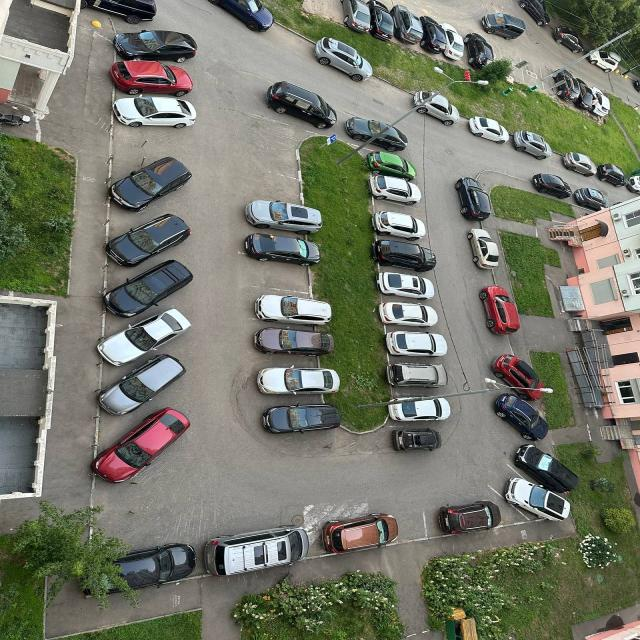car: (88, 409, 188, 483), (88, 542, 196, 601), (100, 260, 193, 321), (202, 528, 312, 577), (102, 350, 184, 415), (102, 308, 193, 365), (108, 155, 194, 210), (105, 213, 189, 266), (501, 477, 571, 523), (326, 515, 401, 557), (104, 63, 197, 96), (490, 350, 549, 402), (266, 85, 338, 126), (518, 447, 582, 493), (314, 35, 371, 82), (495, 396, 555, 438), (250, 327, 331, 357), (117, 97, 196, 127), (112, 31, 194, 59), (260, 294, 333, 325), (345, 118, 409, 153), (479, 282, 519, 337), (268, 403, 341, 433), (434, 502, 497, 536), (258, 368, 339, 394), (210, 0, 274, 32), (252, 201, 318, 232), (245, 238, 318, 263), (82, 2, 157, 25), (370, 175, 421, 208), (482, 14, 538, 42), (387, 364, 447, 389), (391, 331, 451, 356), (417, 95, 461, 129), (469, 229, 506, 269), (391, 399, 451, 423), (394, 7, 429, 47), (374, 213, 427, 238), (457, 178, 489, 219), (381, 303, 435, 327), (381, 245, 435, 268), (369, 152, 417, 177), (394, 429, 441, 453), (470, 114, 507, 144), (561, 82, 598, 110), (517, 0, 550, 31), (467, 33, 491, 73), (593, 162, 629, 188), (590, 48, 626, 74), (564, 154, 601, 179), (338, 0, 369, 29), (373, 3, 397, 40), (419, 18, 445, 52), (554, 70, 582, 101), (586, 88, 614, 119), (517, 132, 549, 159), (537, 173, 574, 196), (558, 31, 583, 56), (445, 27, 463, 59), (469, 47, 495, 68), (579, 190, 605, 210), (626, 75, 640, 94), (625, 172, 638, 192)
